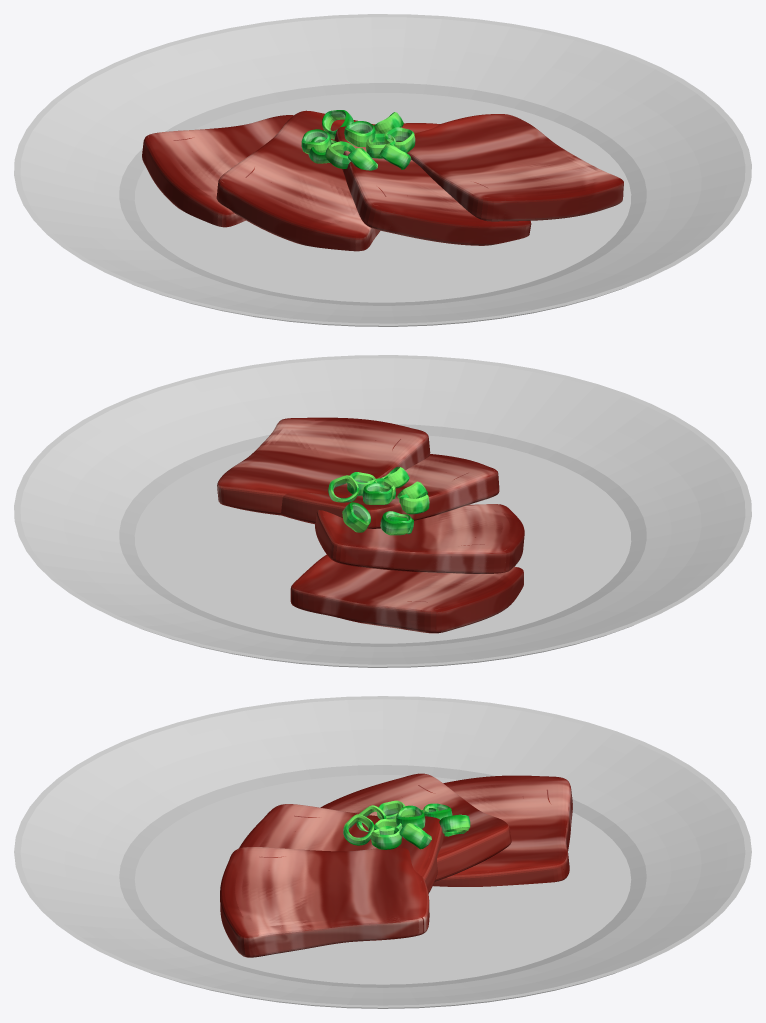
File: Chashu.fbx
3 views of the same model, one above another, from view 1: azimuth 30°, elevation 25°; view 2: azimuth 150°, elevation 25°; view 3: azimuth 270°, elevation 25° (orthographic).
Visible parts, largest first — view 1: Chashu.009; view 2: Chashu.009; view 3: Chashu.009.
Boxes of the visible parts, box(x1,y1,x2,y2) form: Chashu.009: box(14, 14, 751, 326); Chashu.009: box(14, 355, 751, 667); Chashu.009: box(14, 696, 751, 1008).
Bounding box in the file's own units: 111 × 15.6 × 111.
